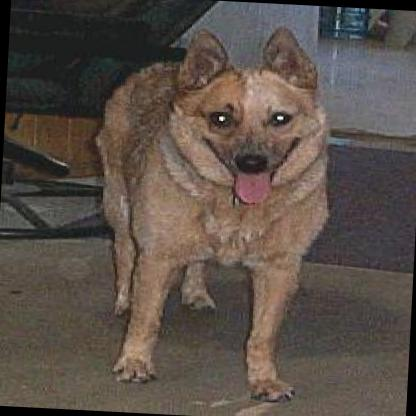dingo: (80, 13, 340, 407)
